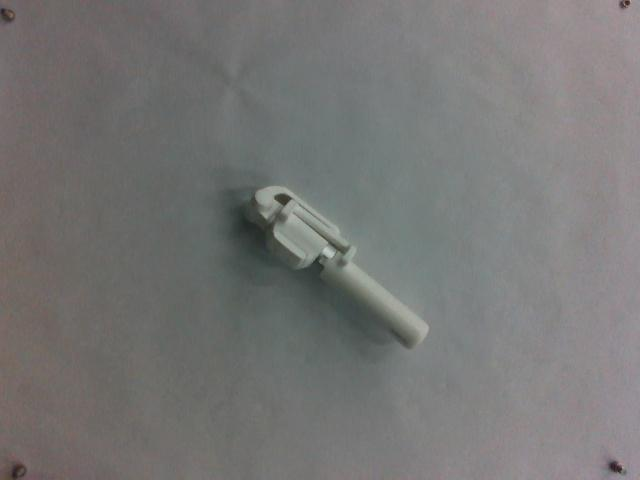selfiestick: (237, 181, 435, 353)
